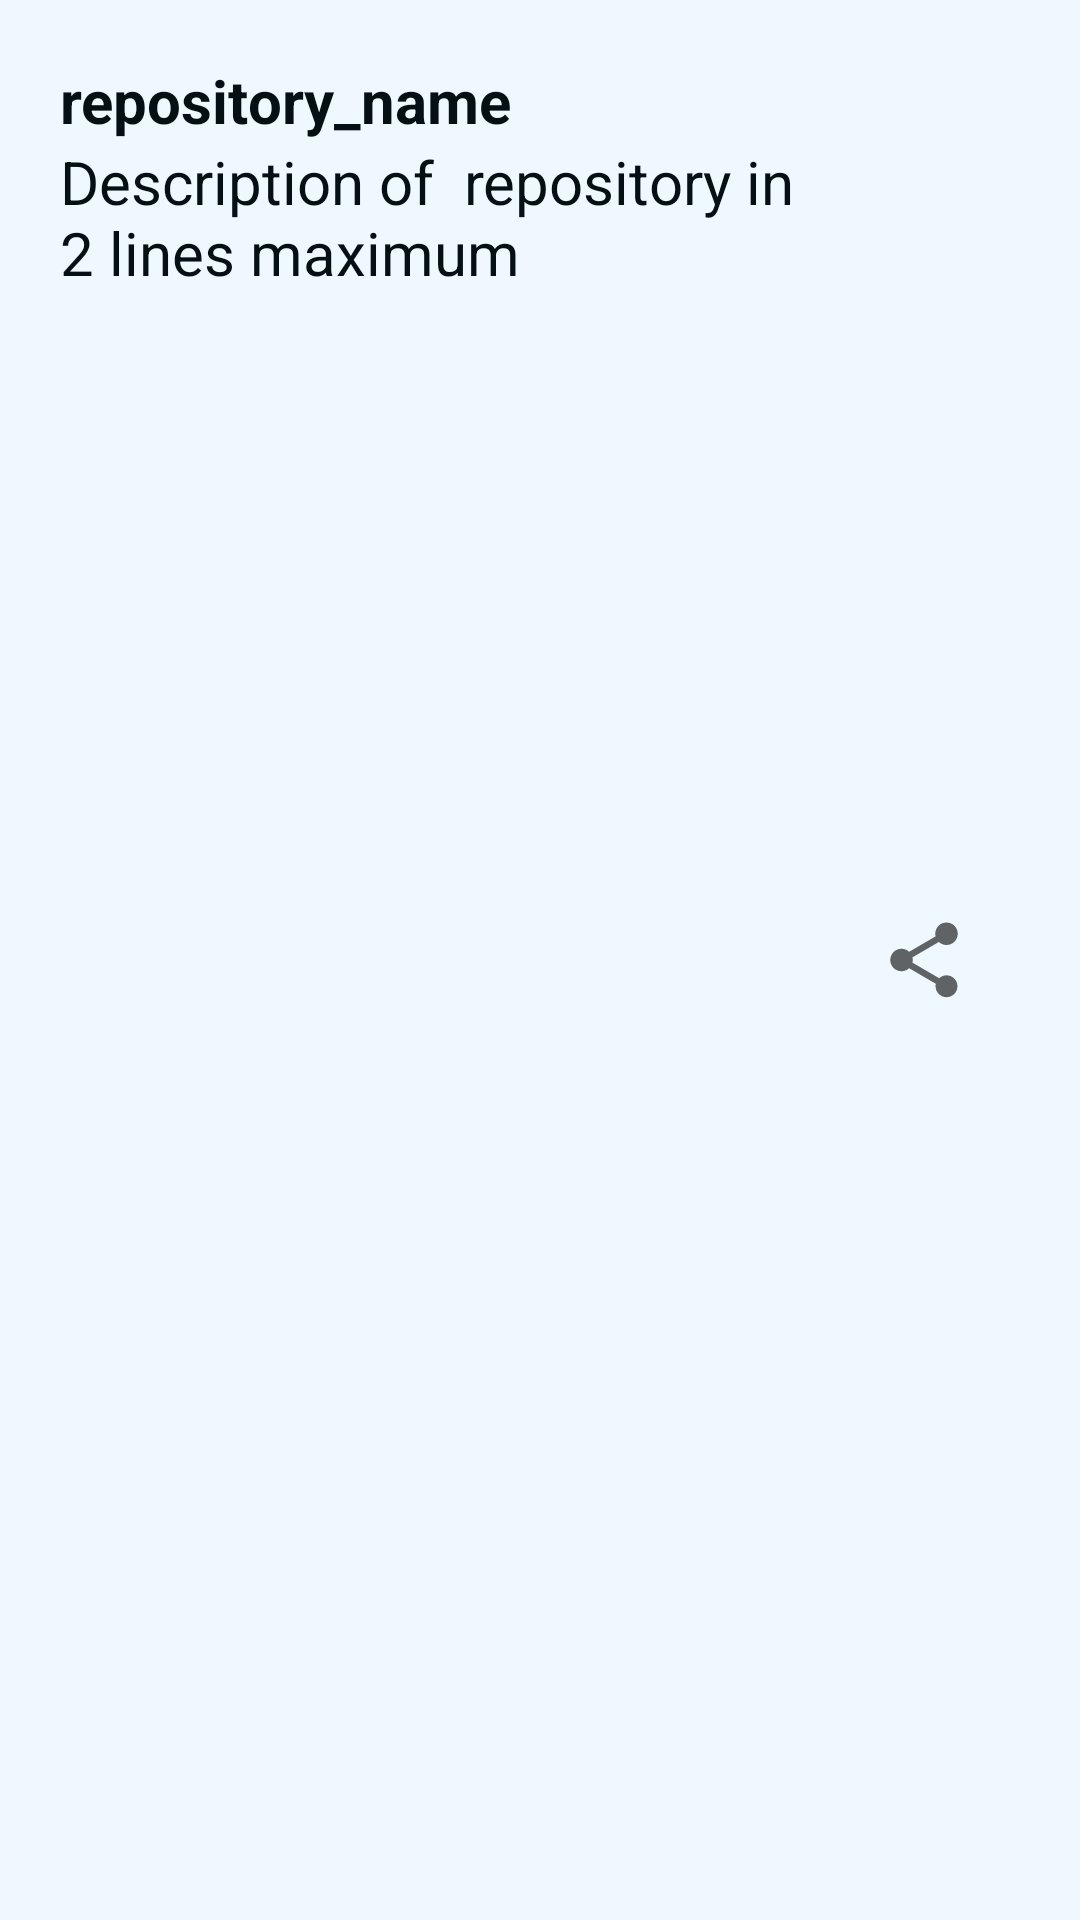

Screen size 1080 x 1920. Icon name, then its box in pixels as (x1, y1, x2, y2):
share: (890, 922, 958, 998)
